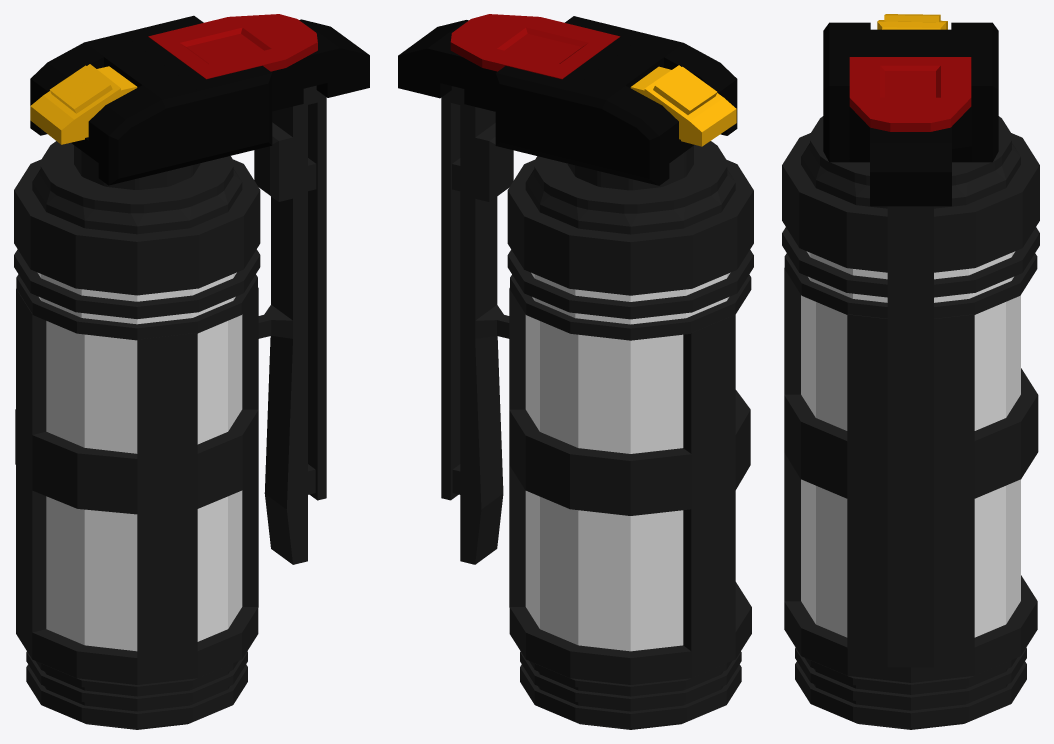
File: Flashbang.fbx
The picture shows the model from 3 angles, left to right: view 1: azimuth 30°, elevation 25°; view 2: azimuth 150°, elevation 25°; view 3: azimuth 270°, elevation 25°; orthographic projection. The views are drawn at different scales.
Visible parts, largest first — view 1: Flashbang, Prime, Release; view 2: Flashbang, Prime, Release; view 3: Flashbang, Prime, Release.
Boxes of the visible parts, x1,y1,x2,y2 form: Flashbang: (14,15,369,729); Prime: (148,14,317,79); Release: (30,64,137,144); Flashbang: (398,16,753,729); Prime: (450,14,620,79); Release: (630,65,736,146); Flashbang: (782,22,1039,729); Prime: (849,57,971,131); Release: (877,14,947,29).
Size of the model in its own units: 333 by 618 by 222.
